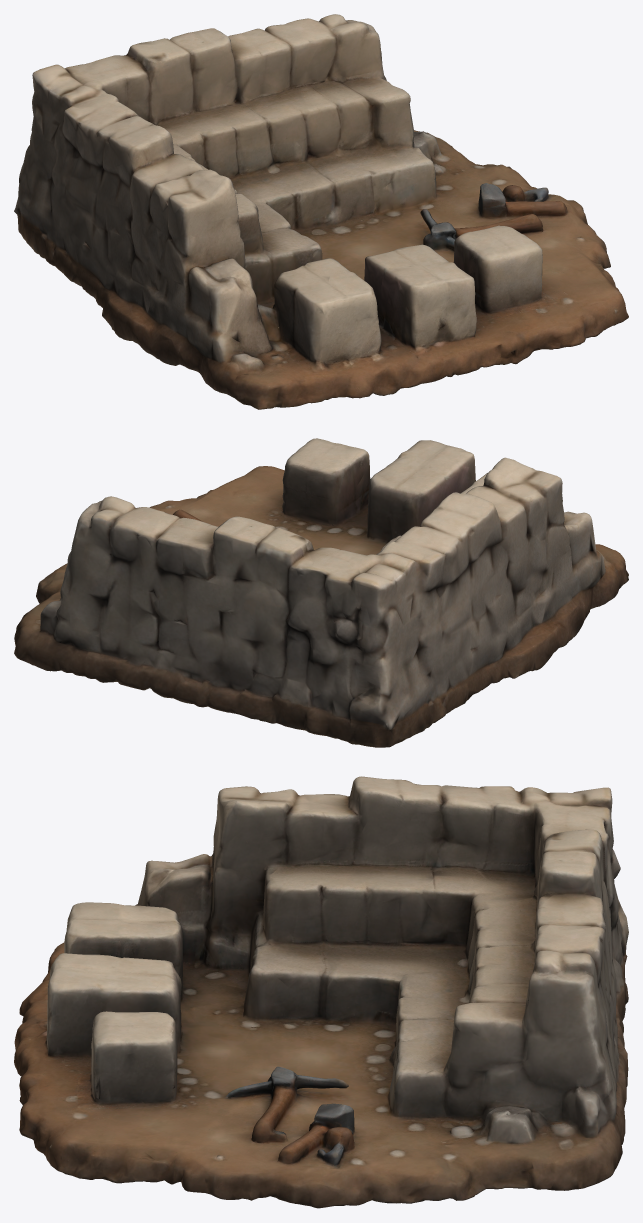
Rendered from Quarry Base Model.fbx.
The picture shows the model from 3 angles, top to bottom: view 1: azimuth 30°, elevation 25°; view 2: azimuth 150°, elevation 25°; view 3: azimuth 270°, elevation 25°; orthographic projection. The views are drawn at different scales.
Visible parts, largest first — view 1: Mesh_0; view 2: Mesh_0; view 3: Mesh_0.
Part boxes in pixels (left/top/right/bottom): Mesh_0: left=14, top=14, right=628, bottom=409; Mesh_0: left=14, top=438, right=628, bottom=747; Mesh_0: left=14, top=776, right=628, bottom=1208.
Bounding box in the file's own units: 200 × 72.55 × 199.
1 material, 1 textured.
